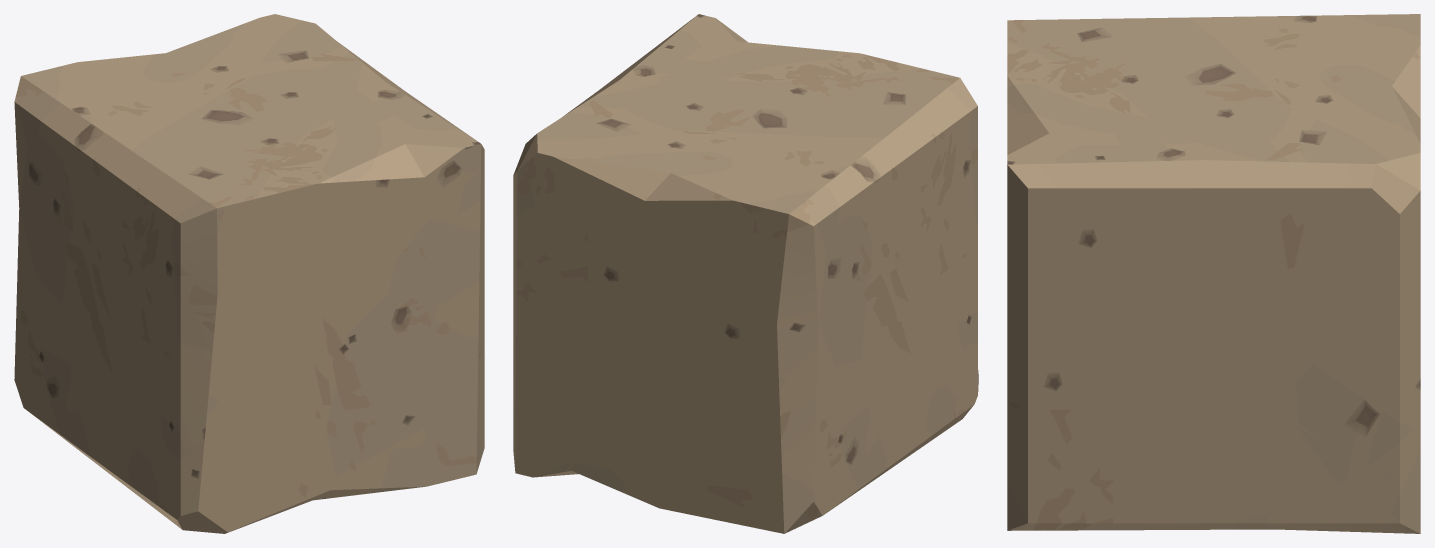
The model's file is SM_Bld_Trim_Temple_Ground_Quarter_01.fbx.
3 views of the same model, side by side, from view 1: azimuth 30°, elevation 25°; view 2: azimuth 150°, elevation 25°; view 3: azimuth 270°, elevation 25° (orthographic). The views are drawn at different scales.
Visible parts, largest first — view 1: SM_Bld_Trim_Temple_Ground_Quarter_01; view 2: SM_Bld_Trim_Temple_Ground_Quarter_01; view 3: SM_Bld_Trim_Temple_Ground_Quarter_01.
Boxes of the visible parts, x1,y1,x2,y2 form: SM_Bld_Trim_Temple_Ground_Quarter_01: [14, 14, 484, 533]; SM_Bld_Trim_Temple_Ground_Quarter_01: [513, 14, 978, 533]; SM_Bld_Trim_Temple_Ground_Quarter_01: [1007, 14, 1420, 533].
Size of the model in its own units: 125 by 130 by 132.
